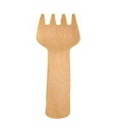fork: (33, 10, 80, 122)
